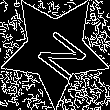N_NW: (24, 18, 86, 80)
